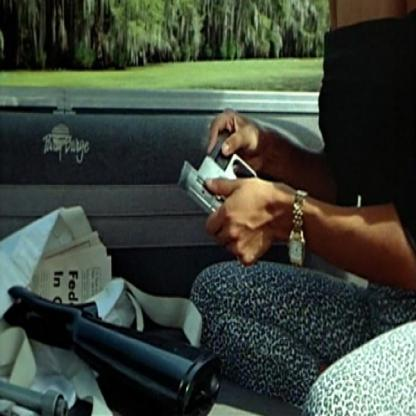Guns: (175, 125, 270, 261)
